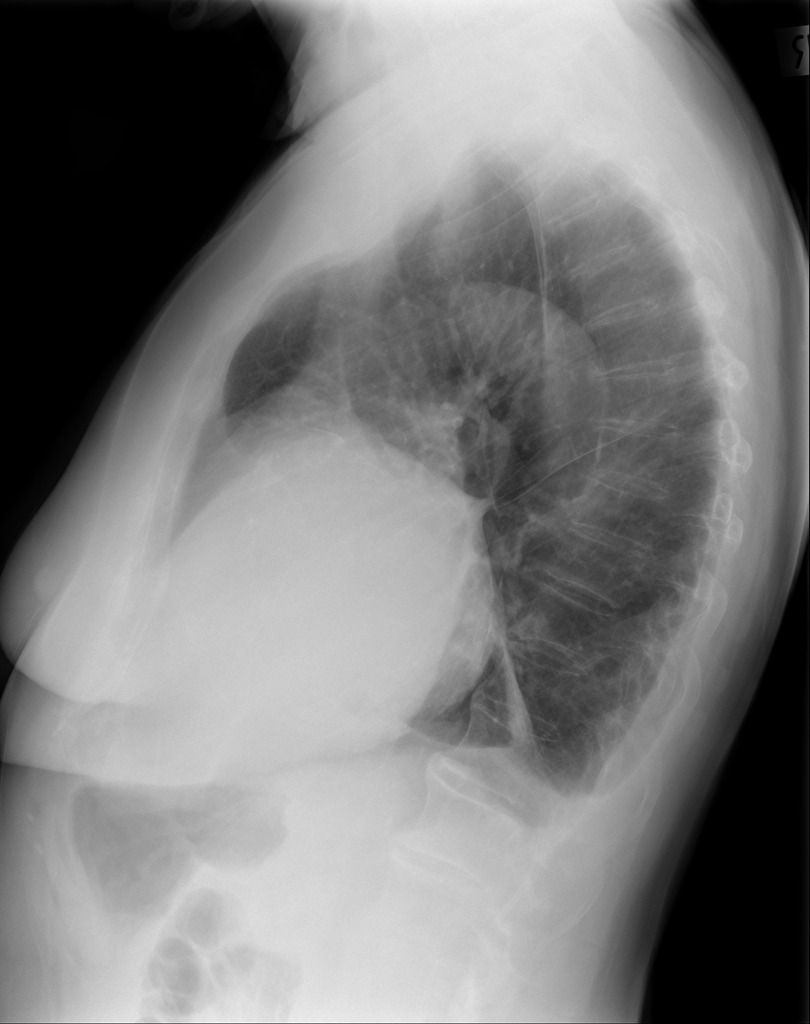cancer: (222, 382, 654, 664)
